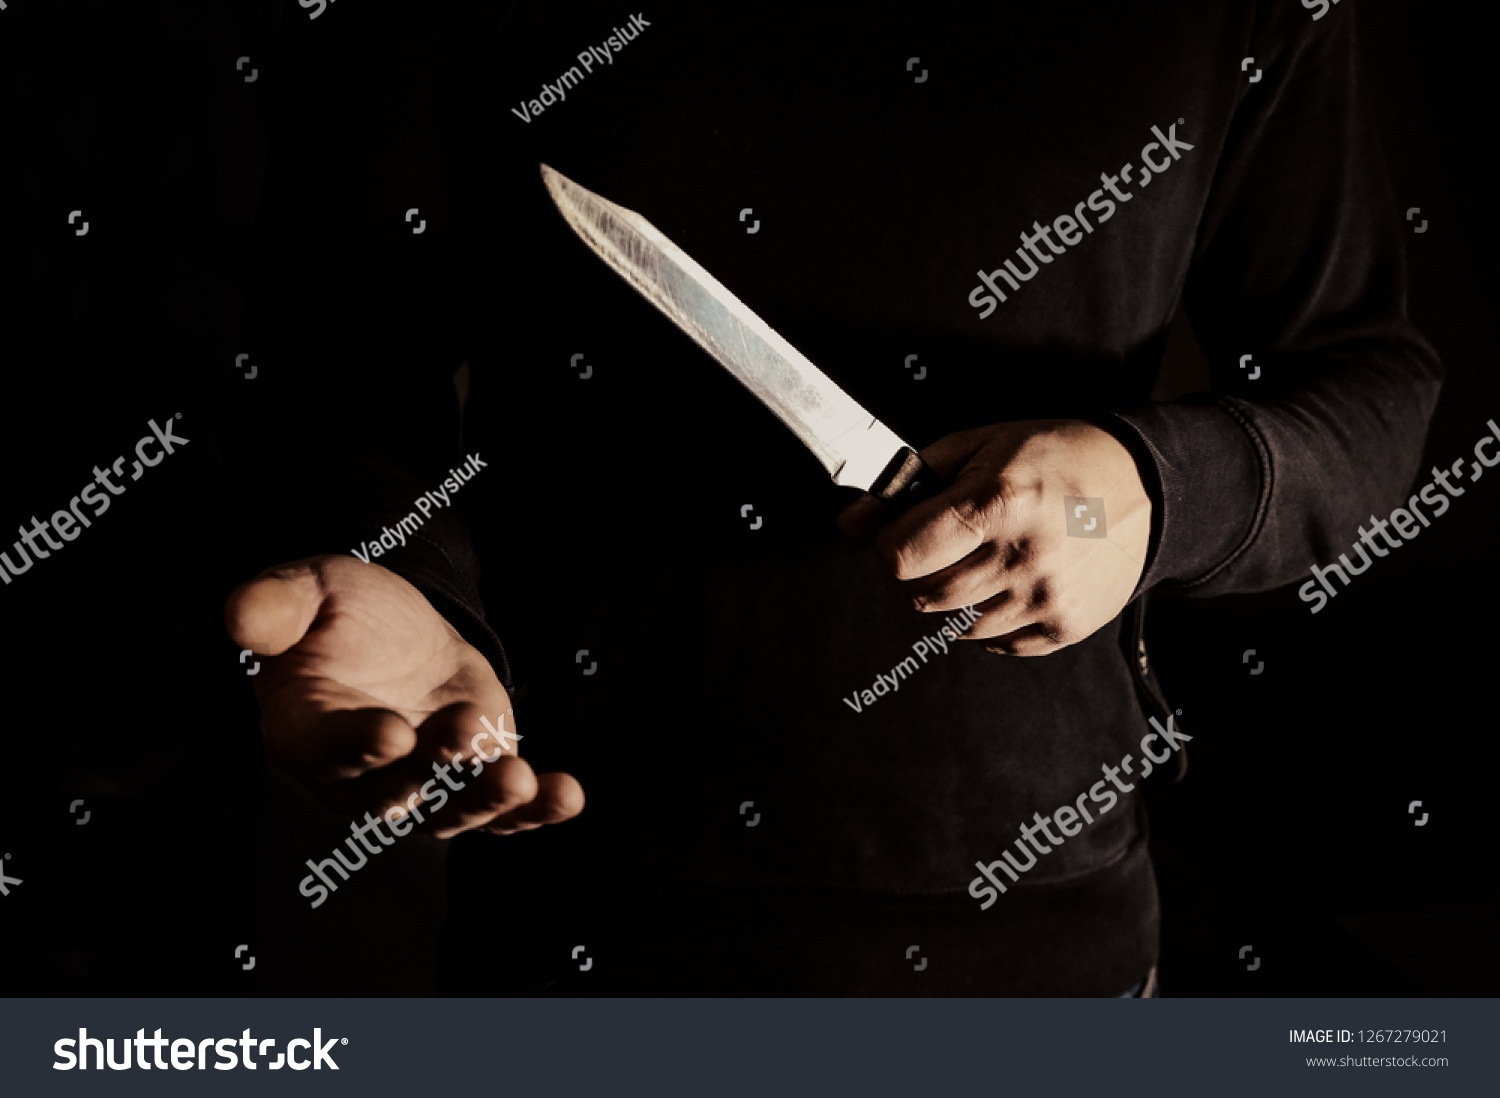knife: (536, 162, 995, 550)
